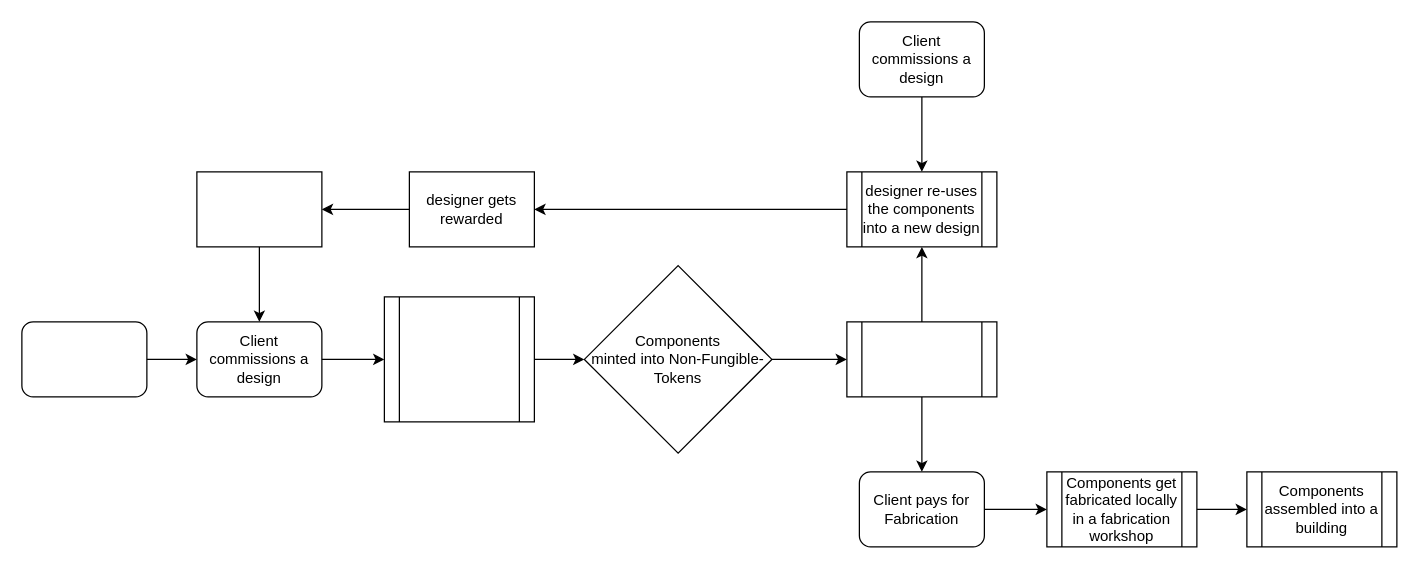
The diagram is 1419 pixels wide and 569 high, and some of its shapes have lost their labels. The centre of each missing label's shape, as x and y in pixels:
"Client needs a building" goes at [84,359].
"design of building gets fragmented into customisable components" goes at [458,359].
"designer" goes at [259,209].
"Tokens get deposited into a common pool" goes at [921,359].
